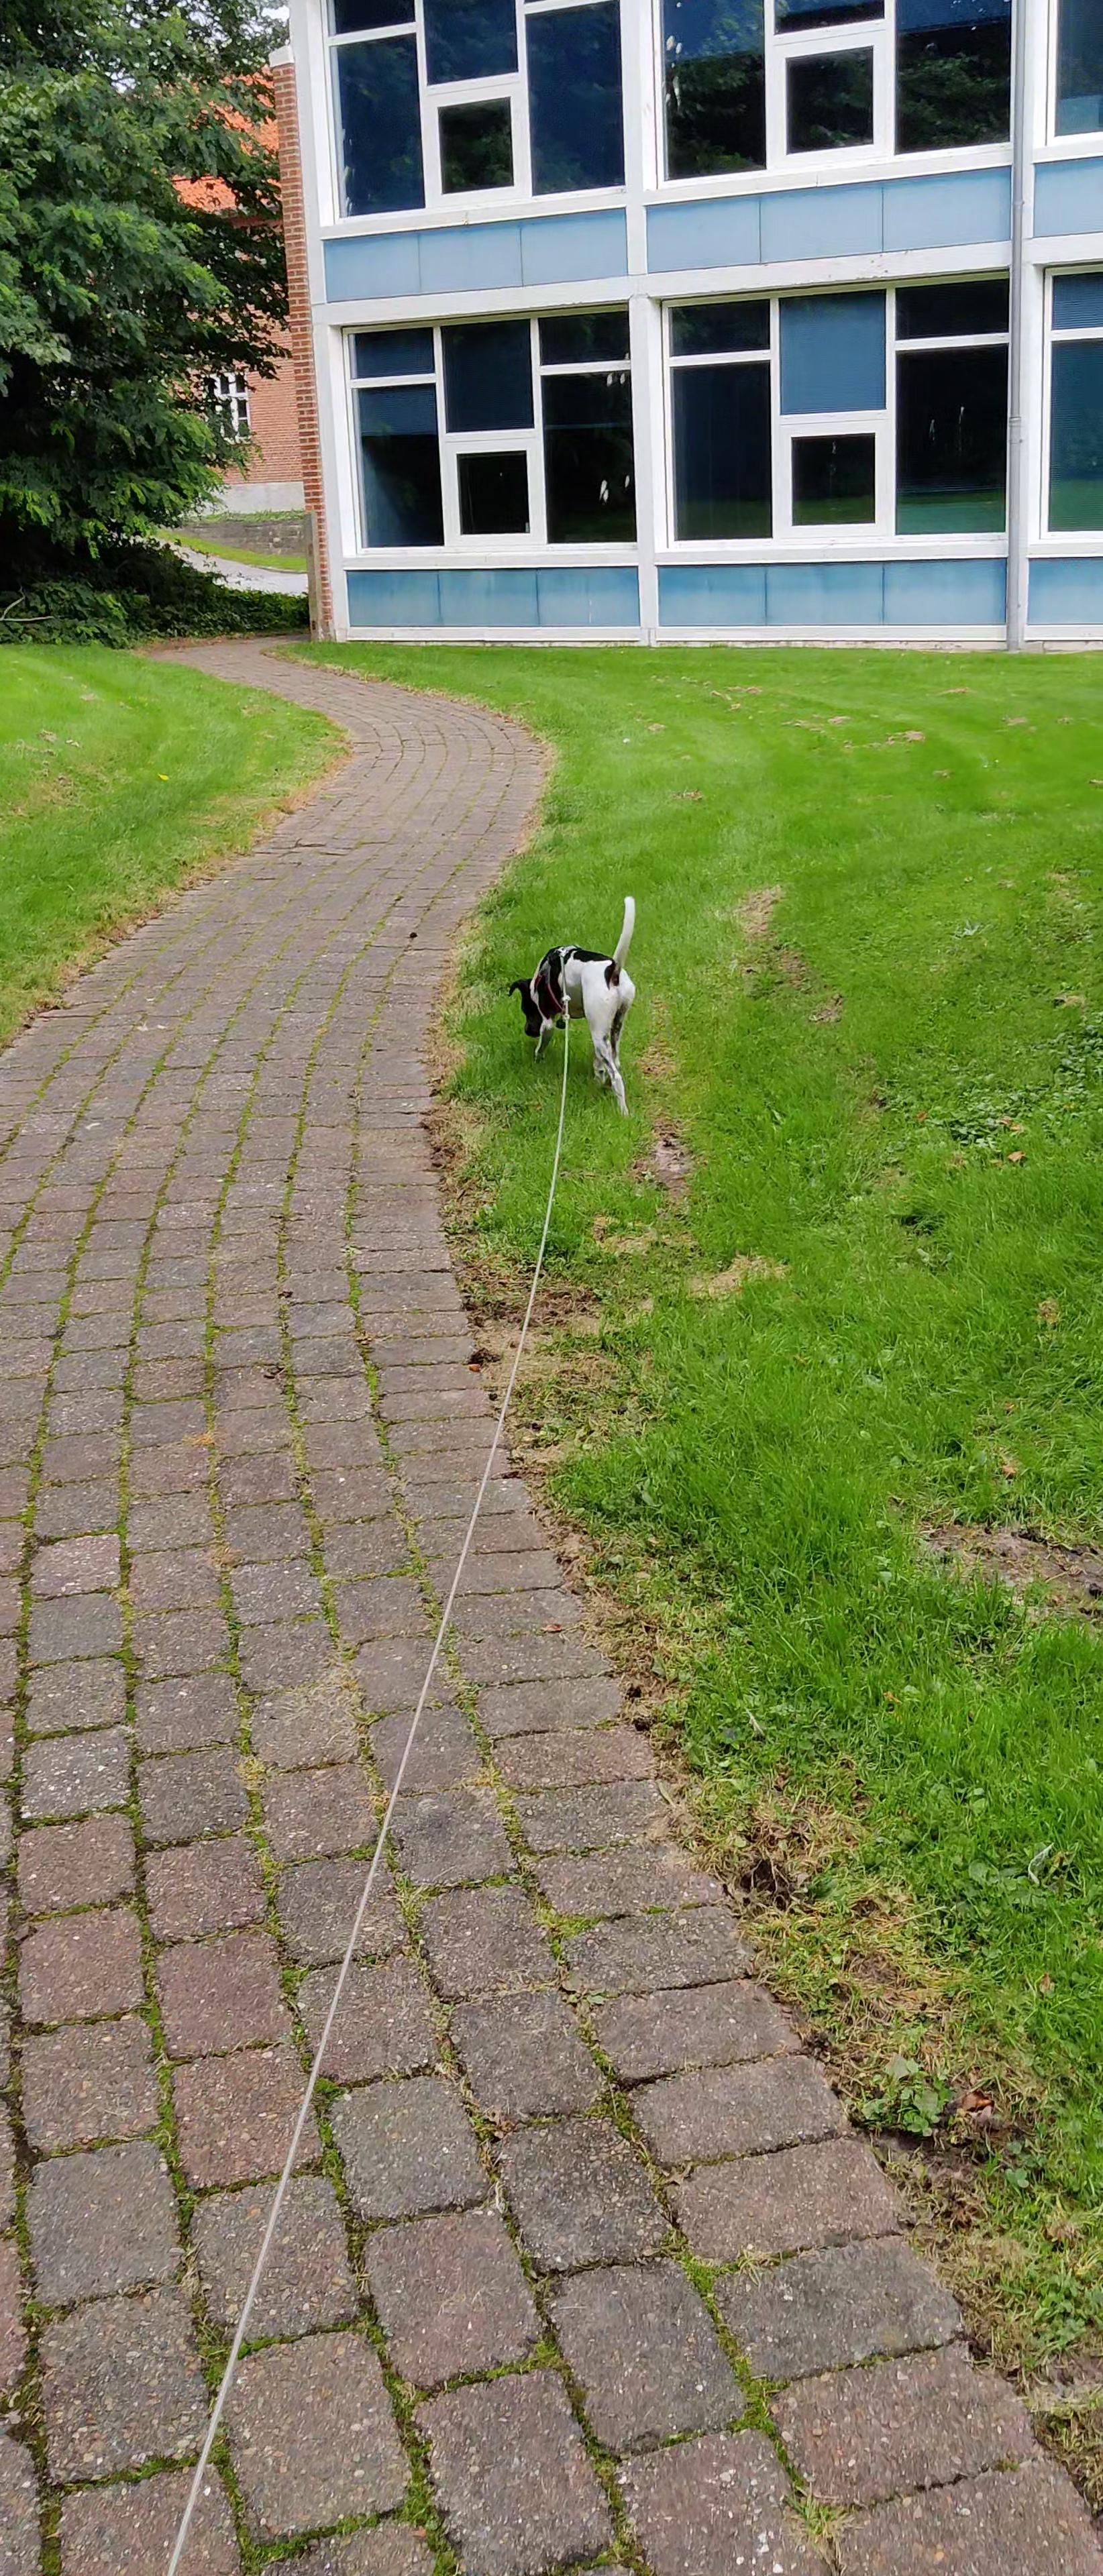Dog: (503, 881, 646, 1120)
